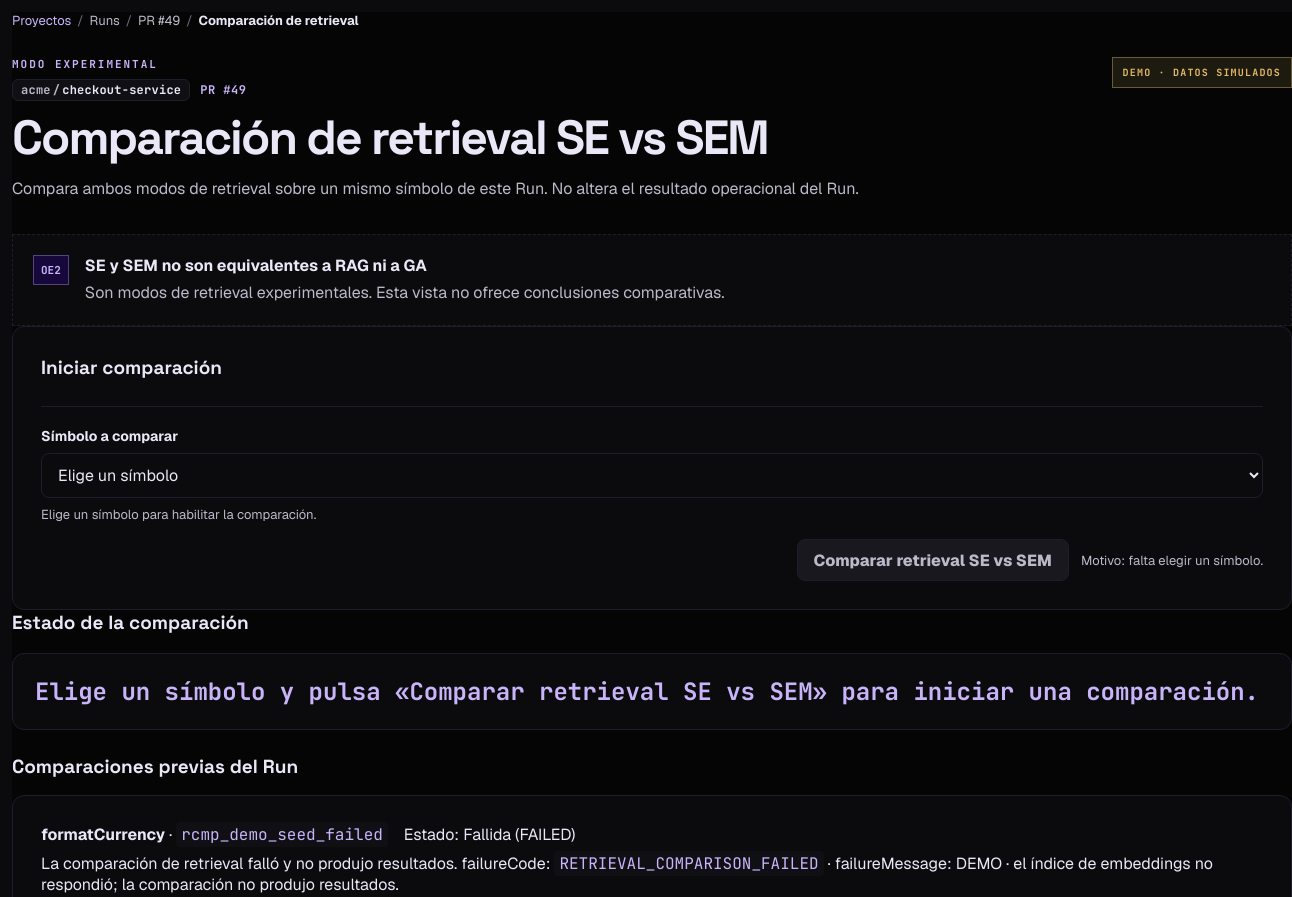
Scenario: RetrievalComparisonPage (WI-CONSOLE-014, Corte B) › creación con 409 ANALYSIS_NOT_FINISHED muestra el mensaje propio y no crea comparación
This screenshot has width=1292, height=897.
Select "formatCurrency · FUNCTION · src/shared/money.ts" in the dropdown labelled "Símbolo a comparar": x=652, y=476 [41, 453, 1263, 498]
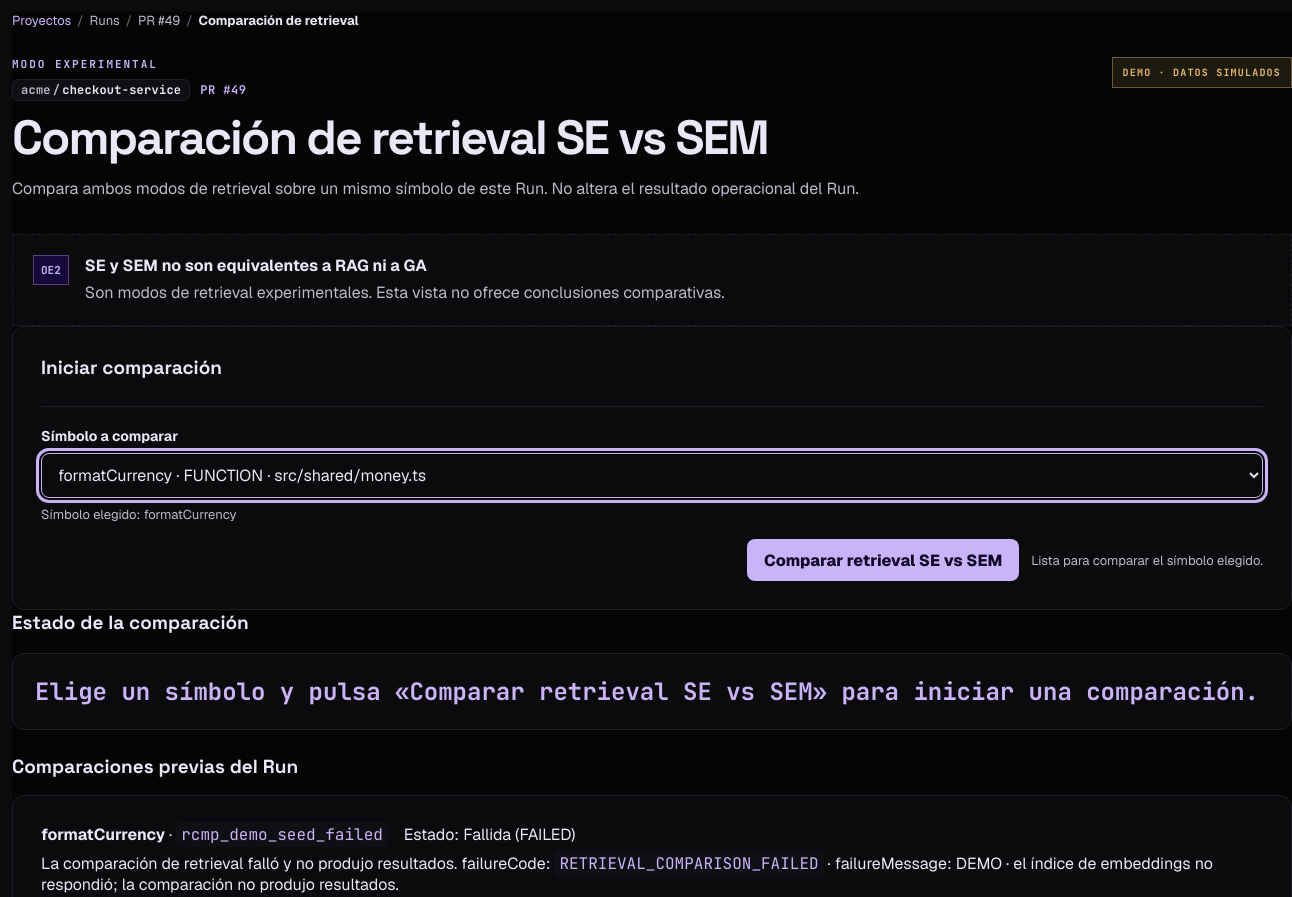
Click the button "Comparar retrieval SE vs SEM": x=883, y=560 [747, 539, 1019, 581]
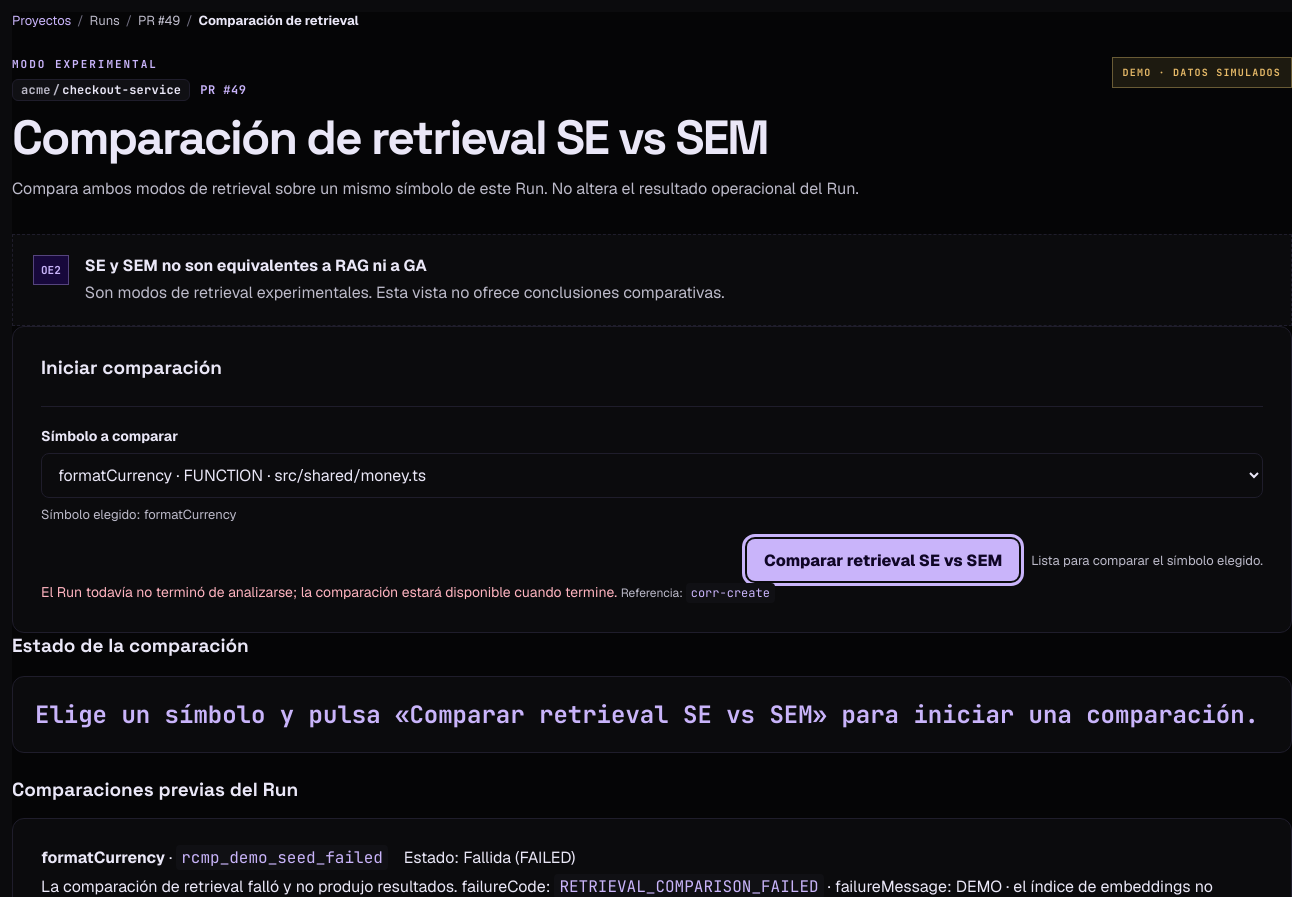
Check: the text "El Run todavía no terminó de analizarse; la comparación estará disponible cuando termine." is shown, box [41, 583, 617, 601]
